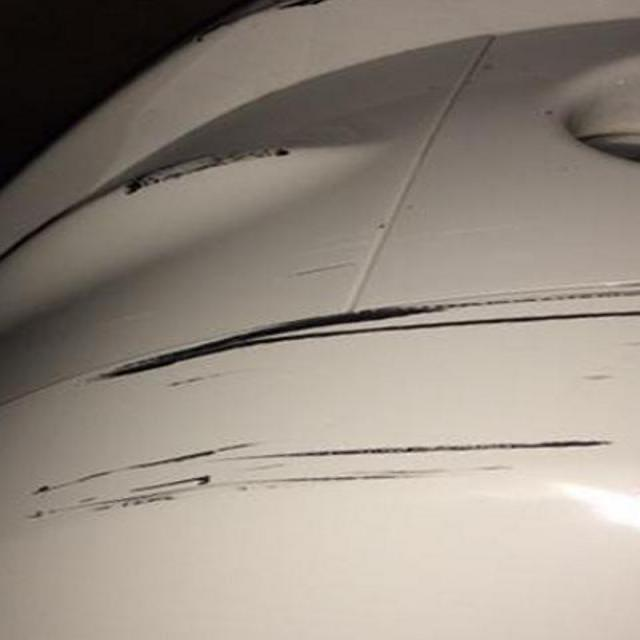scratch: (0, 265, 628, 571)
